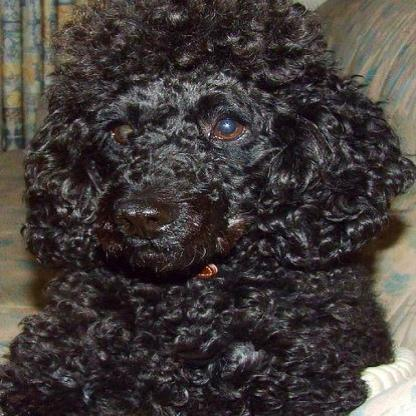miniature_poodle: (0, 0, 413, 414)
